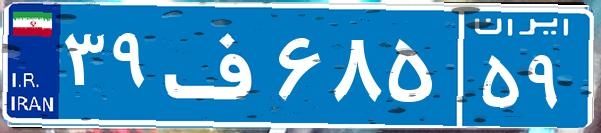3: (57, 26, 110, 107)
5: (385, 28, 445, 110), (475, 38, 525, 113)
6: (273, 28, 330, 110)
8: (330, 28, 385, 110)
9: (110, 28, 158, 105), (525, 38, 570, 115)
ف: (158, 15, 273, 115)
